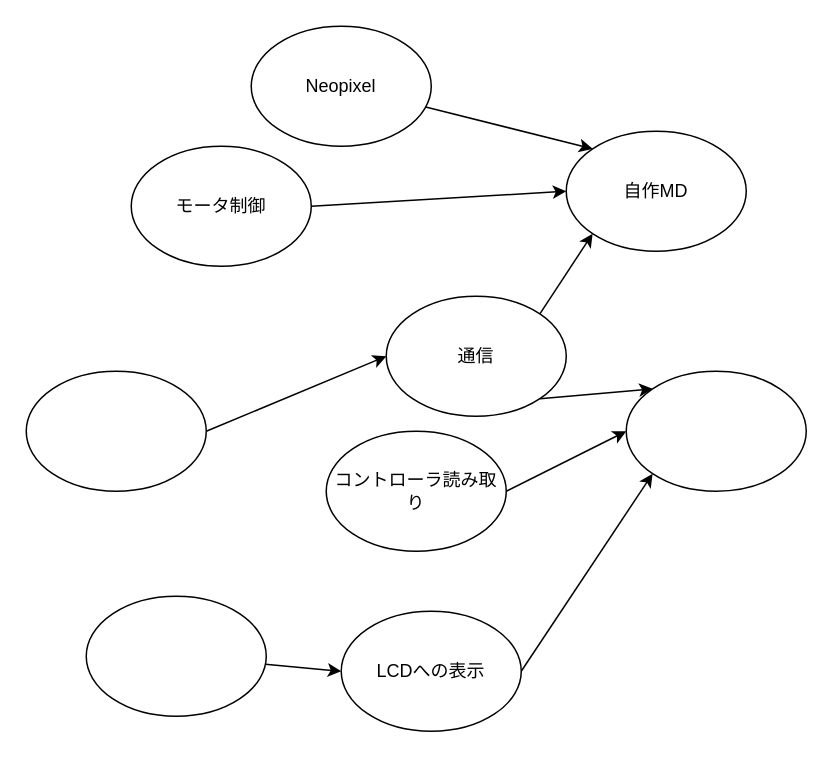
Image size: 833x758. Some labels were removed from this diagram. The box of each missing label's shape, as (x1, y1, x2, y2) in pixels:
SPI通信: (85, 595, 266, 716)
コントローラ基板: (625, 370, 806, 491)
プロトコル開発: (25, 370, 206, 491)
